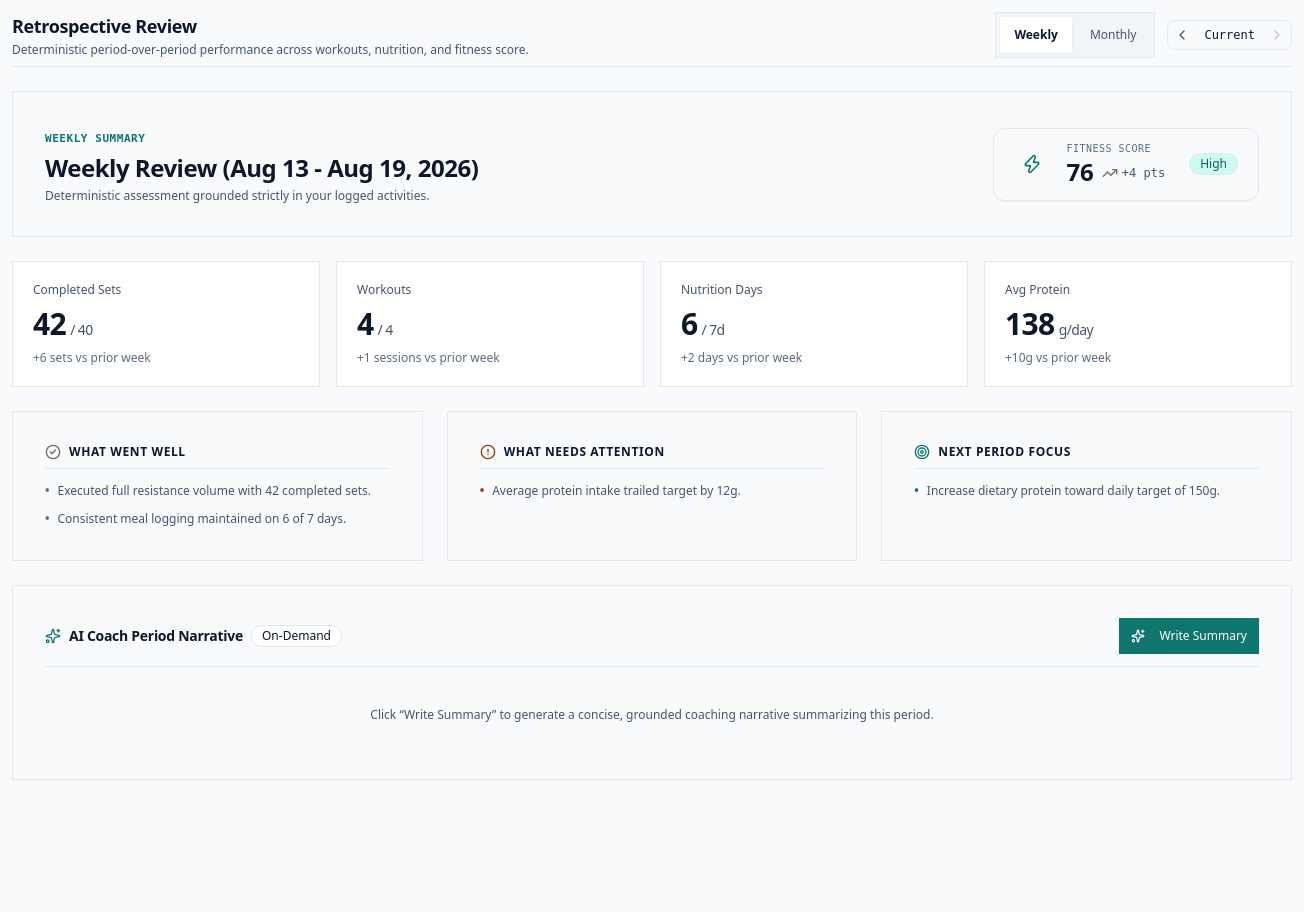
Scenario: Milestone M7 — Weekly Review & Forecast Tabs › handles on-demand AI summary generation and caching
Expected: the text "Write Summary" is shown, [1131, 628, 1247, 644]
Click the button "Write Summary" at (1189, 636), box [1119, 618, 1259, 654]
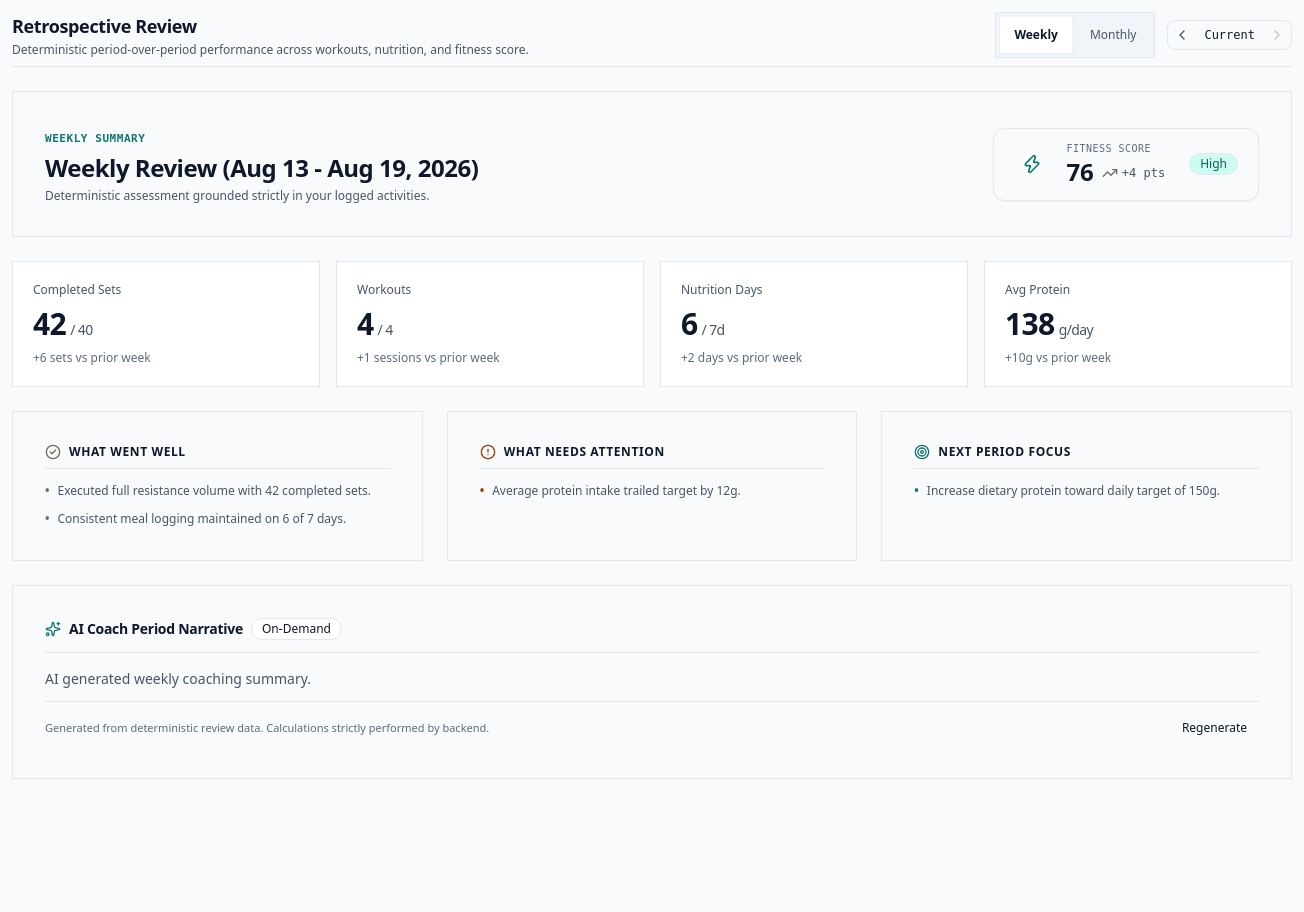
Expected: the text "AI generated weekly coaching summary." is shown, [45, 669, 311, 688]
